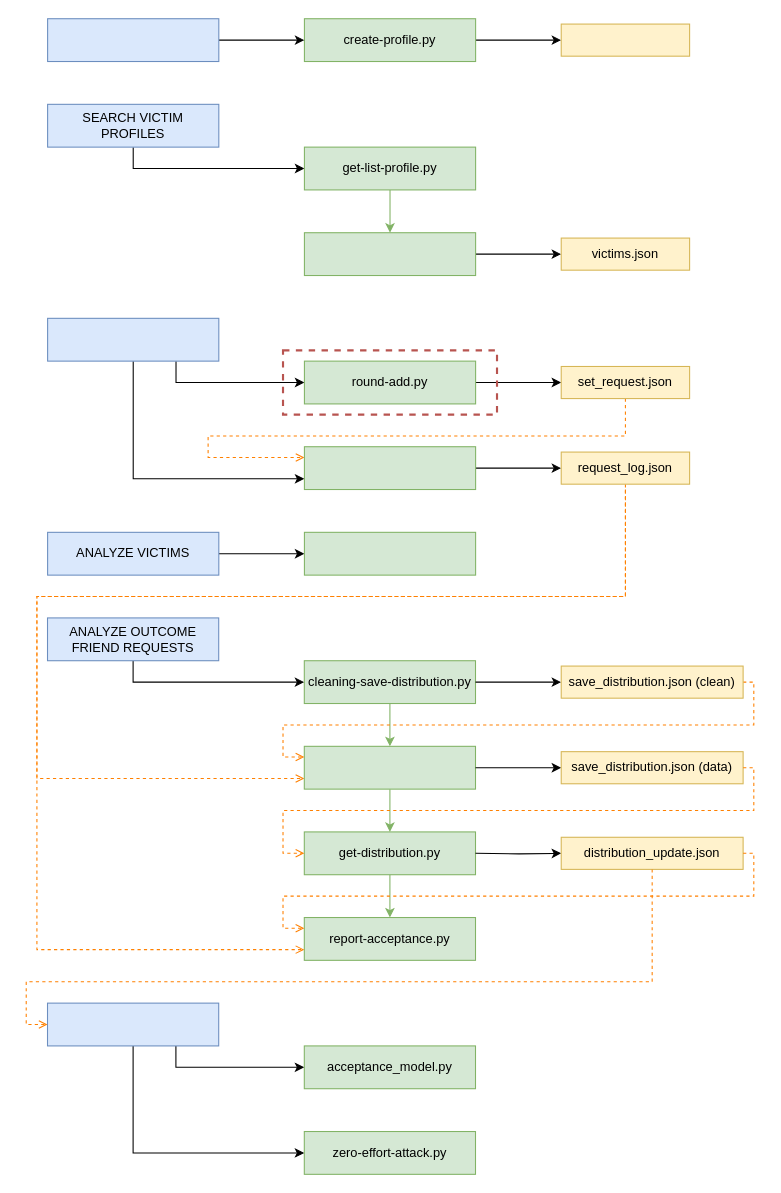
This 781x1193 diagram has some shape labels left out. Here are the shapes that lost their labels. From the top down, the centre of each, then its label:
At point (133, 40): "CREATE ATTACKER PROFILES".
At point (625, 39): "attacker_profiles.json".
At point (389, 254): "classificator-profile.py".
At point (133, 339): "SEND FACEBOOK FRIEND REQUESTS".
At point (389, 468): "add-friend.py".
At point (389, 553): "victims-analysis.py".
At point (389, 767): "analyze-friend-requests.py".
At point (132, 1024): "ZERO-EFFORT ATTACK".
